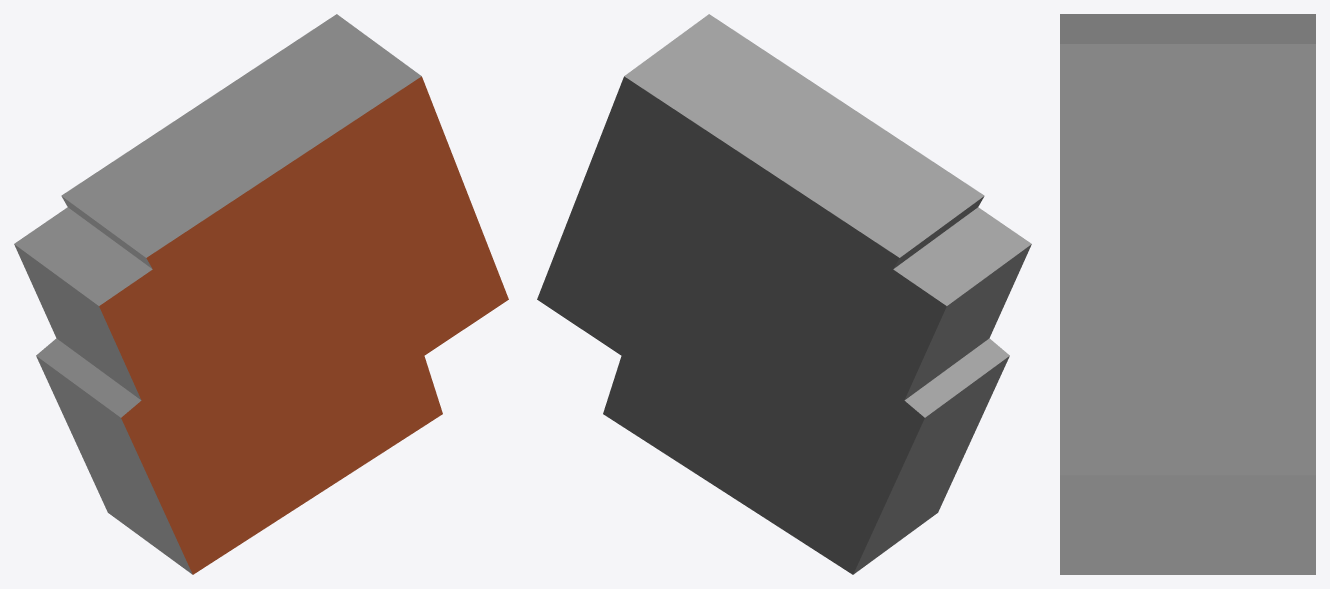
The model's file is construction_1551_assumed_A_Casa_h6m.obj.
3 views of the same model, side by side, from view 1: azimuth 30°, elevation 25°; view 2: azimuth 150°, elevation 25°; view 3: azimuth 270°, elevation 25° (orthographic). The views are drawn at different scales.
Visible parts, largest first — view 1: construction_1551_assumed_A_Casa; view 2: construction_1551_assumed_A_Casa; view 3: construction_1551_assumed_A_Casa.
Boxes of the visible parts, <box> form: construction_1551_assumed_A_Casa: <box>14,14,508,574</box>; construction_1551_assumed_A_Casa: <box>537,14,1031,574</box>; construction_1551_assumed_A_Casa: <box>1060,14,1315,574</box>.
Bounding box in the file's own units: 16.69 × 17.23 × 6.
